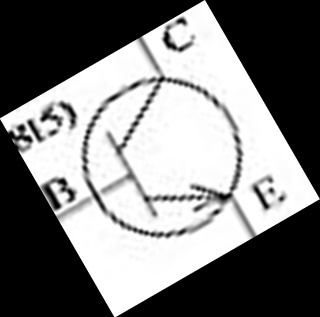t3: (76, 74, 257, 237)
